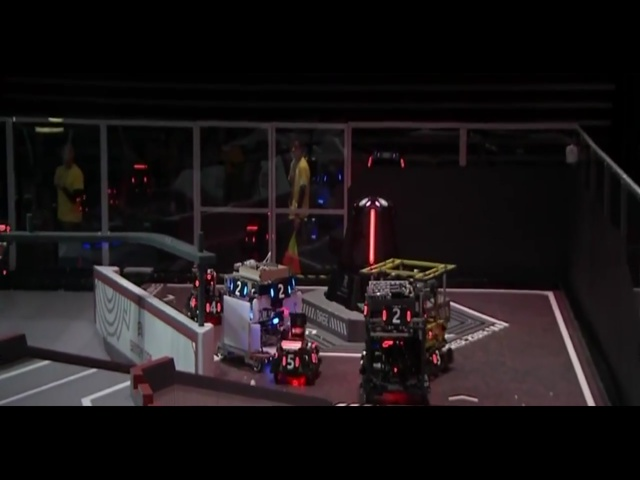bluePlate: (214, 195, 249, 221), (299, 332, 324, 358), (240, 327, 255, 357), (180, 186, 195, 214), (114, 185, 133, 204), (247, 98, 264, 118), (113, 221, 126, 241), (221, 100, 237, 116)
redPlate: (395, 299, 439, 327), (350, 286, 367, 318), (252, 161, 274, 179)
